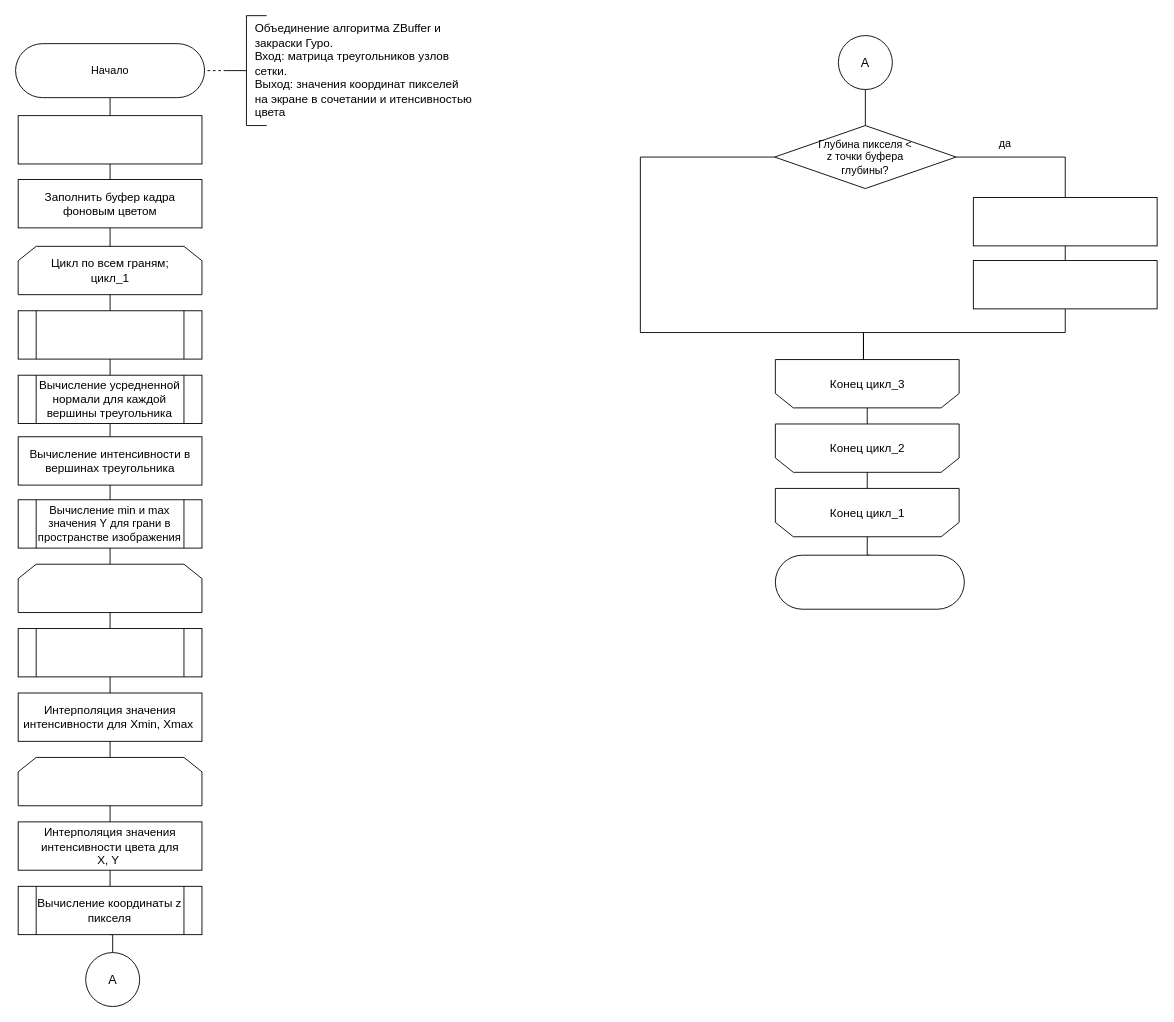
This 1174x1022 diagram has some shape labels left out. The shapes that lost their labels are listed below. From the top down, each one's centre as x and y in pixels, then its label:
the point at 109,139: Заполнить буфер глубины максимальным значением z
the point at 1064,221: Вычисление цвета пикселя
the point at 1064,284: Заненсение в буфер глубины значения z пикселя
the point at 109,334: Вычисление нормали к грани треугольника
the point at 109,588: Цикл по всем сканирующим строками при Ymin <= Y <= Ymax; цикл_2
the point at 869,581: Конец
the point at 109,652: Вычисление min и max значения X для каждой сканирующей строки
the point at 109,781: Цикл по всем пикселям сканирующей строки Xmin <= X <= Xmax; цикл_3
